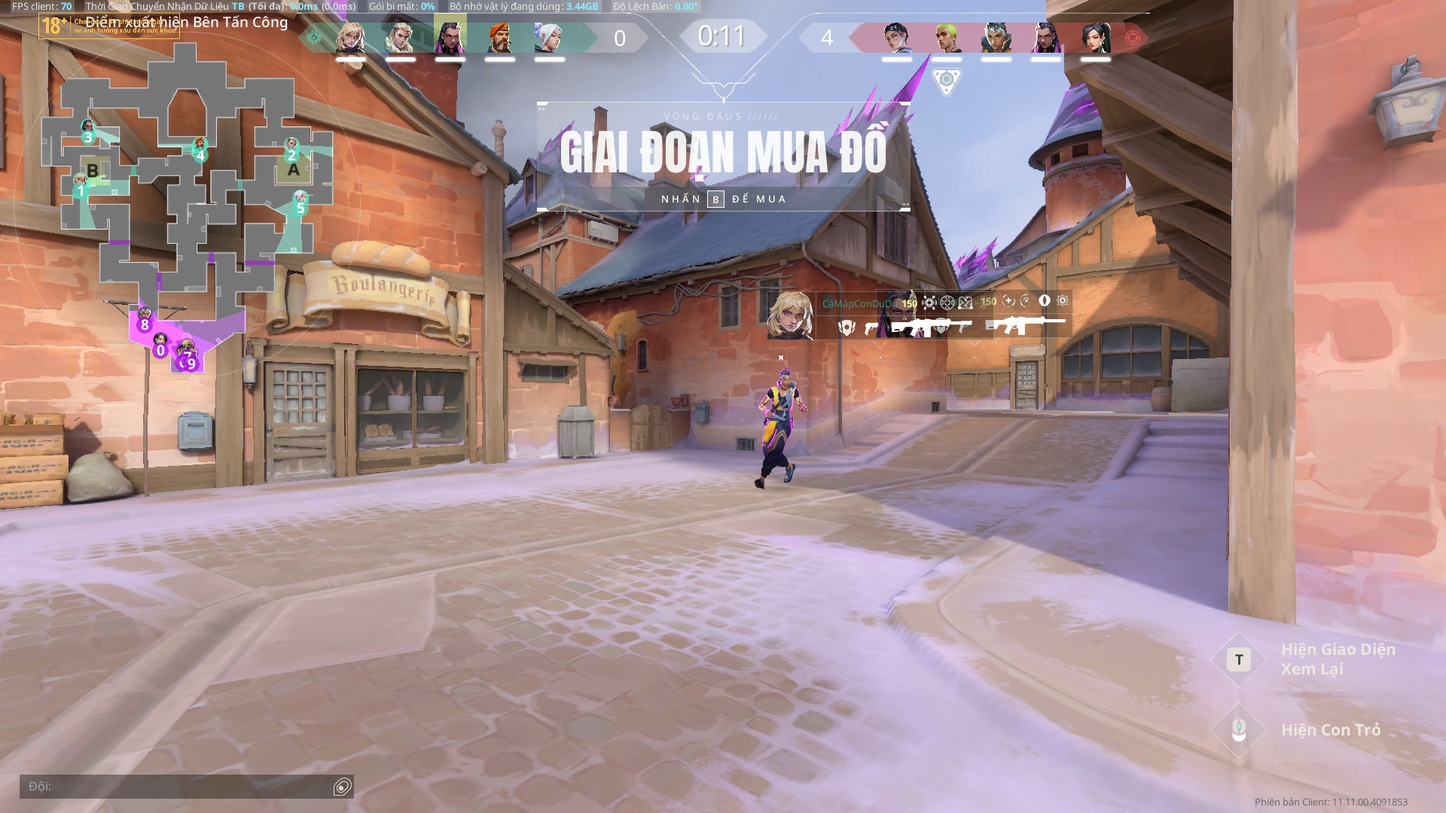body: (767, 382, 795, 413)
head: (779, 368, 794, 385)
